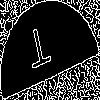T: (25, 24, 54, 78)
